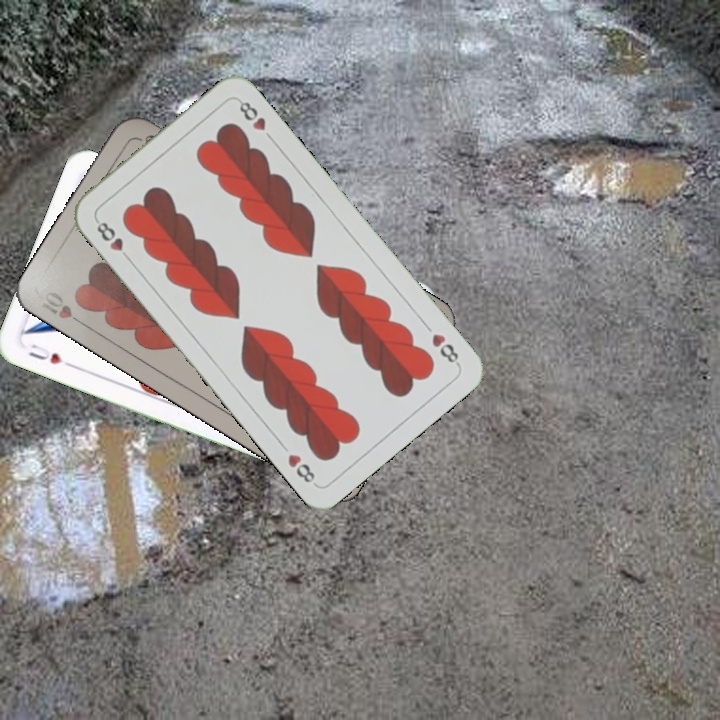H10: (37, 287, 90, 330)
H8: (91, 215, 134, 264), (427, 329, 463, 368)
HU: (24, 339, 76, 370)
